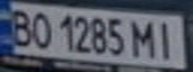1: (54, 11, 75, 52)
2: (72, 11, 93, 54)
5: (106, 15, 130, 57)
8: (90, 14, 109, 56)
B: (3, 6, 36, 47)
I: (151, 18, 181, 61)
M: (127, 17, 160, 60)
O: (27, 8, 54, 51)
